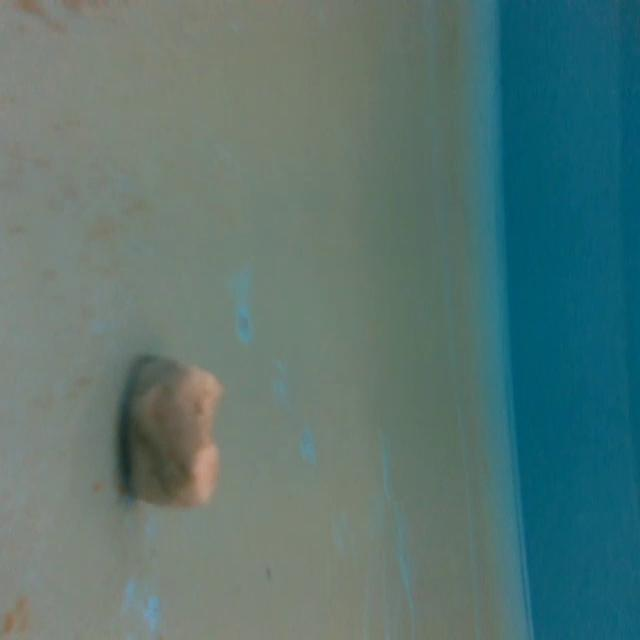rock: (117, 342, 231, 514)
